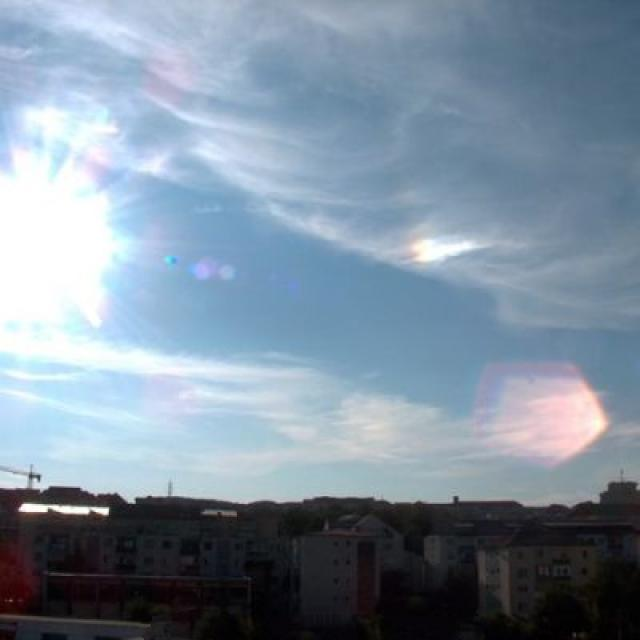Ci: (1, 25, 640, 413)
